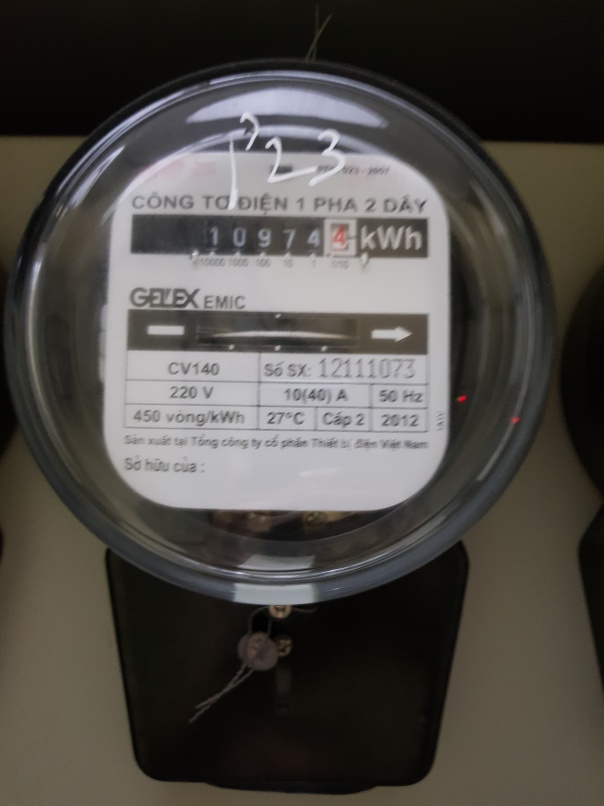counter: (131, 213, 431, 262)
electricity_meter: (7, 61, 562, 597)
